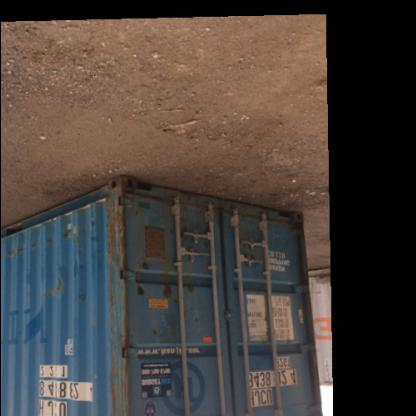Damage: (100, 340, 132, 414), (96, 195, 126, 264), (106, 266, 131, 340), (1, 236, 77, 256), (170, 202, 194, 242), (152, 310, 182, 342), (157, 278, 185, 304), (39, 278, 67, 300), (126, 280, 148, 302), (136, 198, 154, 220), (135, 254, 151, 272)
